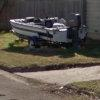Boat: (8, 10, 81, 51)
